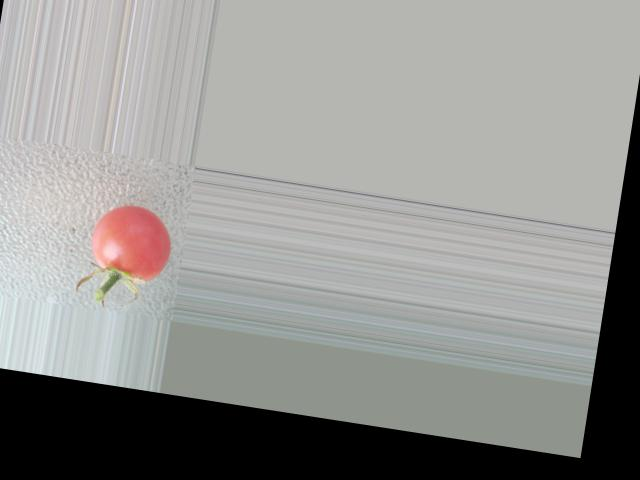tomato: (85, 198, 175, 283)
